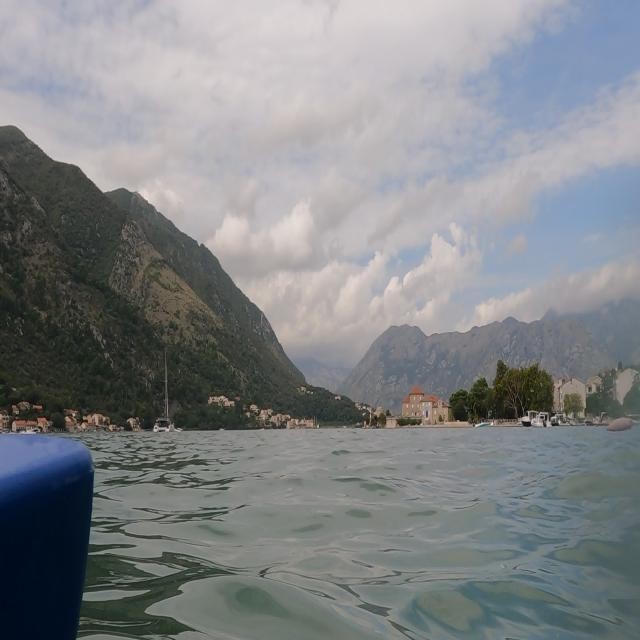boat: (151, 346, 181, 438)
buoy: (602, 408, 636, 441)
